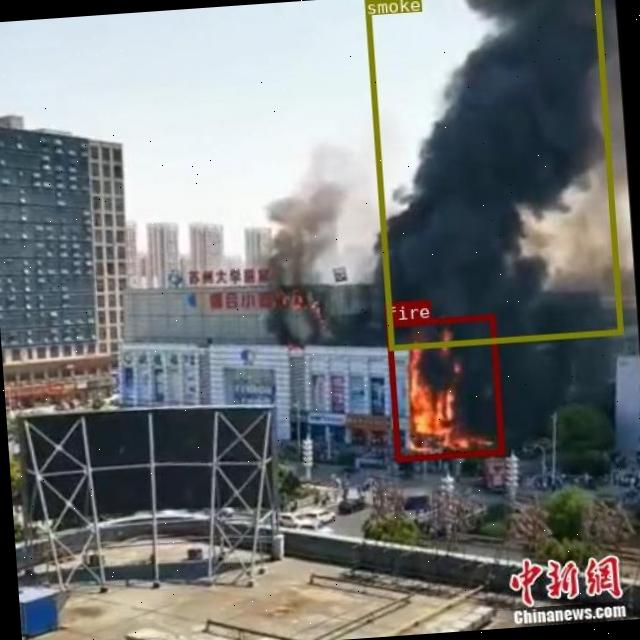fire: (386, 314, 502, 460)
smoke: (362, 0, 621, 348)
